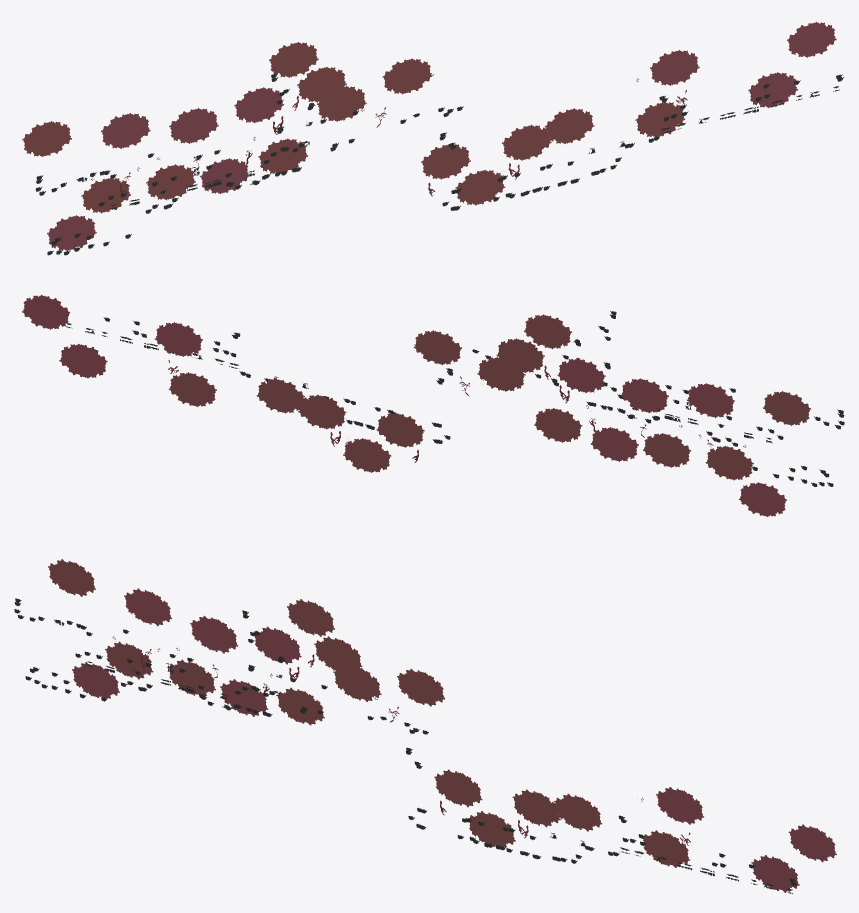
File: nightmare03_bg.glb
3 views of the same model, one above another, from view 1: azimuth 30°, elevation 25°; view 2: azimuth 150°, elevation 25°; view 3: azimuth 330°, elevation 25° (orthographic). The views are drawn at different scales.
Parts seen in each view (by area): view 1: nightmare03_bg; view 2: nightmare03_bg; view 3: nightmare03_bg.
Part boxes in pixels (x1,y1,x2,y2): nightmare03_bg: (22, 21, 843, 255); nightmare03_bg: (22, 294, 844, 516); nightmare03_bg: (14, 559, 836, 893).
Bounding box in the file's own units: 5951 × 1421 × 298.
6 materials, 6 textured.
